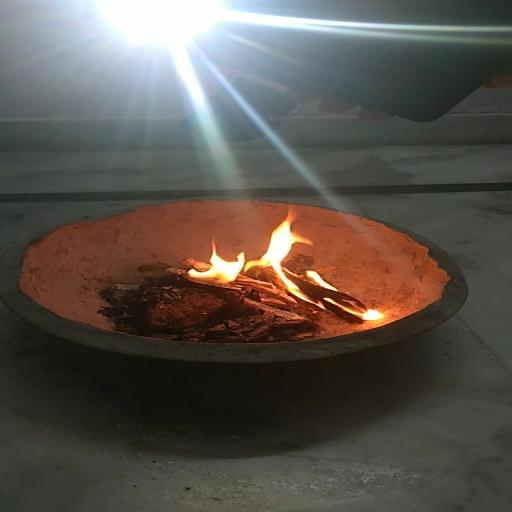fire: (173, 213, 384, 324)
